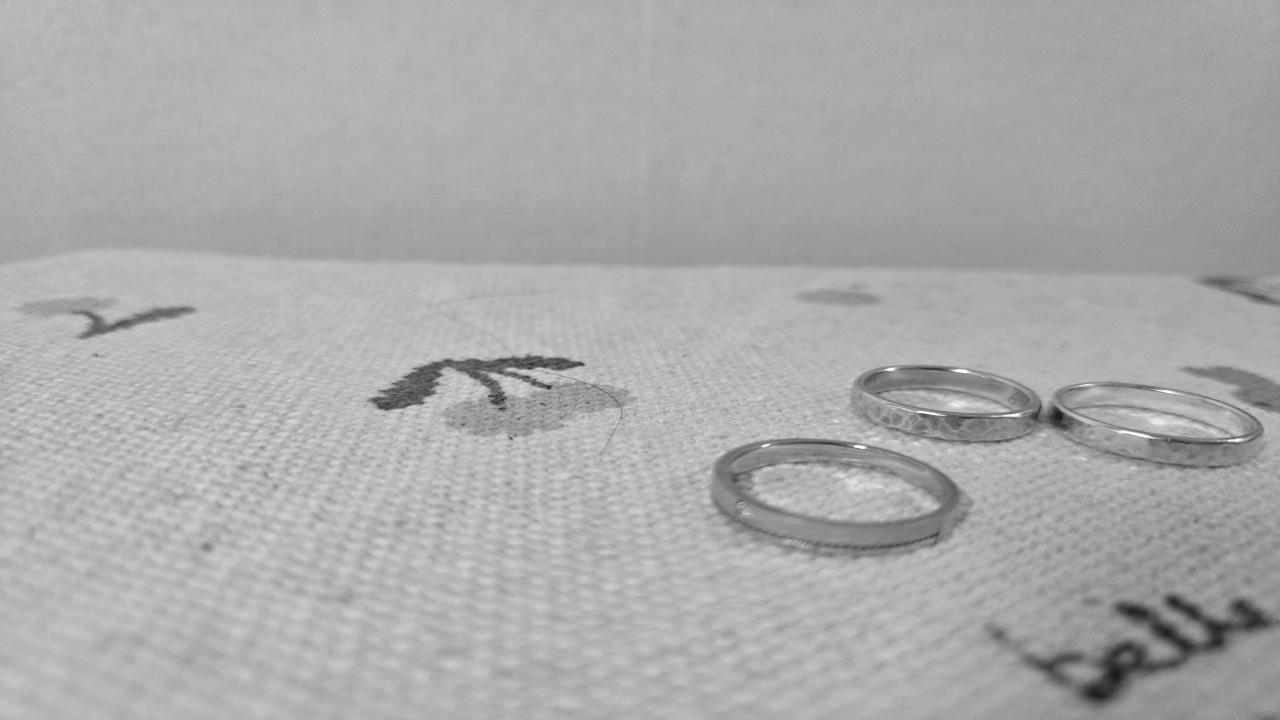ring: (716, 437, 964, 551), (1044, 381, 1268, 468), (850, 363, 1044, 442)
